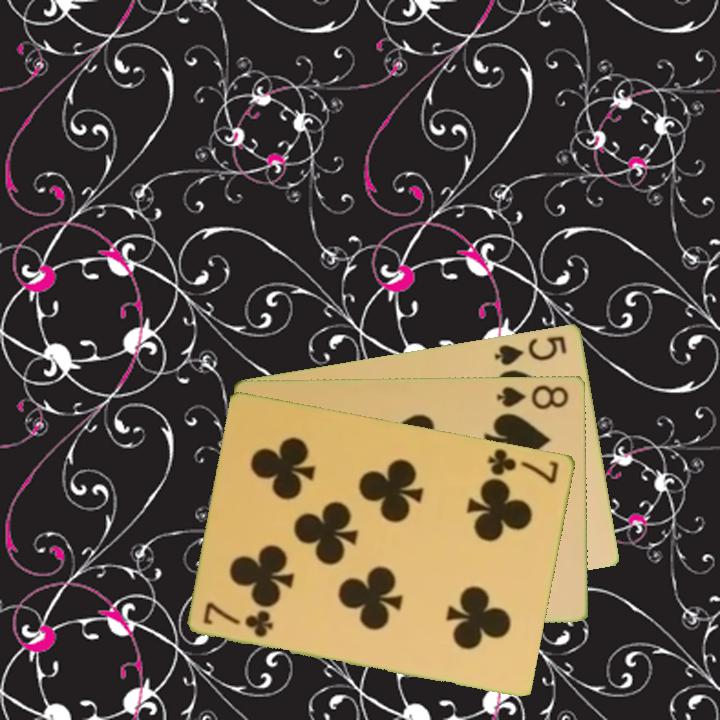5s: (491, 331, 570, 368)
7c: (200, 598, 277, 640), (485, 445, 562, 486)
8s: (494, 381, 572, 412)
